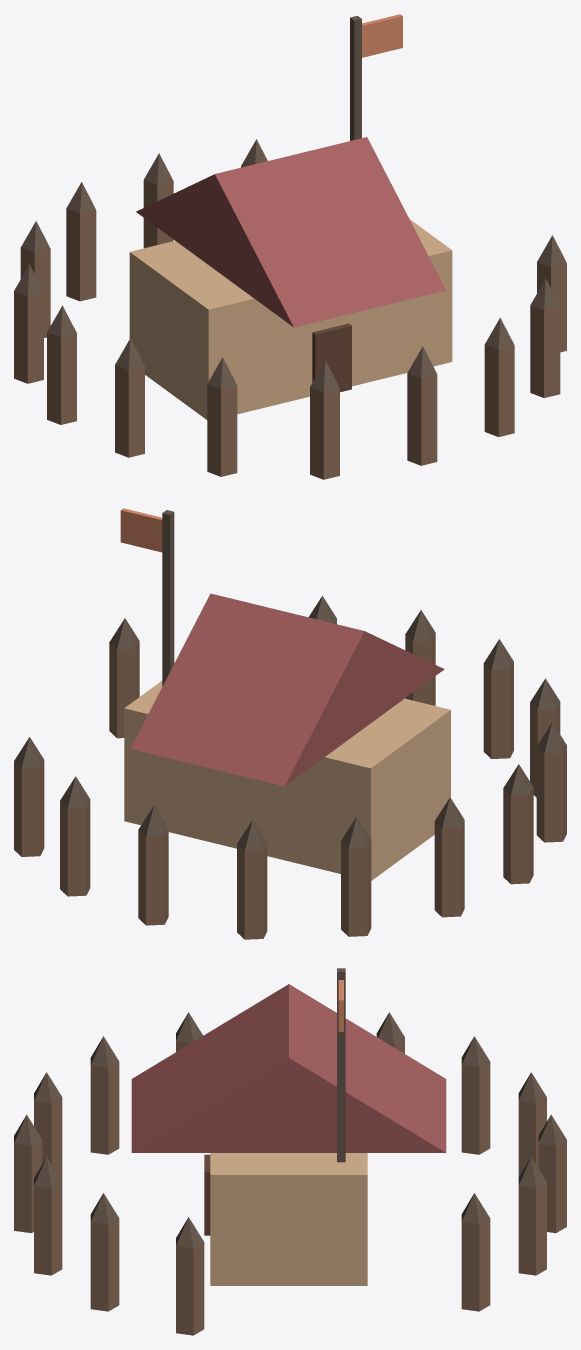
File: colony.glb
3 renders of one model, top to bottom at view 1: azimuth 30°, elevation 25°; view 2: azimuth 150°, elevation 25°; view 3: azimuth 270°, elevation 25°, orthographic.
Parts seen in each view (by area): view 1: roof, longhouse, stake1, stake6, stake8, stake9, stake10, stake7, stake4, stake5, stake3, door (+5 smaller); view 2: roof, longhouse, stake15, stake0, stake7, stake1, stake14, stake2, stake5, stake4, stake3, stake11 (+16 smaller); view 3: roof, longhouse, stake2, stake6, stake14, stake10, stake15, stake9, stake11, stake0, stake8, stake7 (+16 smaller).
Part boxes in pixels (box(x1,y1,x2,y2)): roof: box(136, 137, 445, 327); longhouse: box(129, 219, 452, 419); stake1: box(66, 208, 96, 301); stake6: box(207, 384, 237, 476); stake8: box(407, 373, 437, 465); stake9: box(484, 344, 514, 436); stake10: box(530, 305, 560, 397); stake7: box(310, 387, 339, 479); stake4: box(47, 332, 76, 424); stake5: box(115, 365, 144, 457); stake3: box(14, 291, 43, 383); door: box(312, 323, 351, 392); roof: box(130, 593, 444, 786); longhouse: box(124, 681, 450, 880); stake15: box(60, 800, 90, 896); stake0: box(138, 829, 168, 925); stake7: box(483, 662, 513, 758); stake1: box(237, 843, 267, 939); stake14: box(14, 760, 44, 856); stake2: box(341, 840, 371, 936); stake5: box(536, 746, 566, 842); stake4: box(503, 787, 533, 884); stake3: box(434, 821, 464, 917); stake11: box(109, 641, 139, 738); roof: box(131, 984, 446, 1152); longhouse: box(210, 1153, 367, 1285); stake2: box(461, 1061, 490, 1154); stake6: box(90, 1061, 119, 1154); stake14: box(461, 1218, 490, 1311); stake10: box(90, 1218, 119, 1311); stake15: box(518, 1182, 546, 1275); stake9: box(34, 1182, 62, 1275); stake11: box(176, 1242, 204, 1335); stake0: box(538, 1140, 566, 1233); stake8: box(14, 1140, 42, 1233); stake7: box(34, 1098, 62, 1181).
Bounding box in the file's own units: 3.06 × 1.9 × 3.16.
